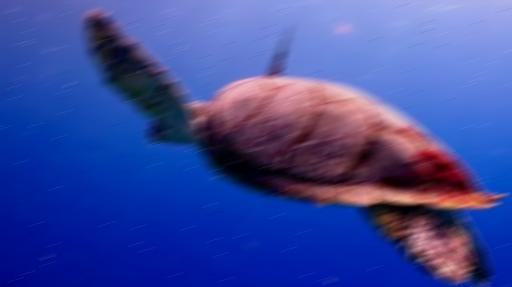Fish: (84, 9, 503, 285)
